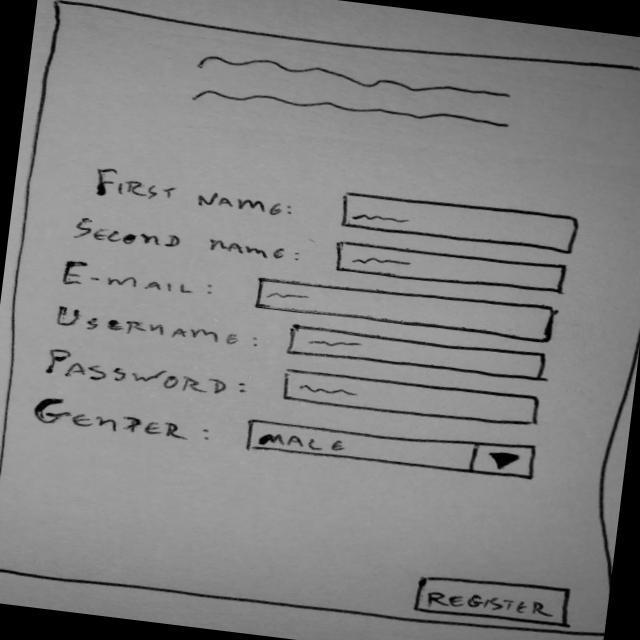button: (403, 566, 588, 634)
container: (1, 1, 640, 640)
input: (244, 267, 574, 350), (331, 185, 605, 262), (274, 364, 557, 436), (279, 318, 555, 391), (332, 238, 589, 303)
label: (61, 155, 310, 232), (30, 341, 264, 407), (67, 210, 313, 272), (41, 299, 274, 362), (23, 388, 225, 455), (51, 250, 233, 313)
select: (240, 407, 545, 494)
text: (167, 40, 540, 117), (164, 75, 536, 149)
